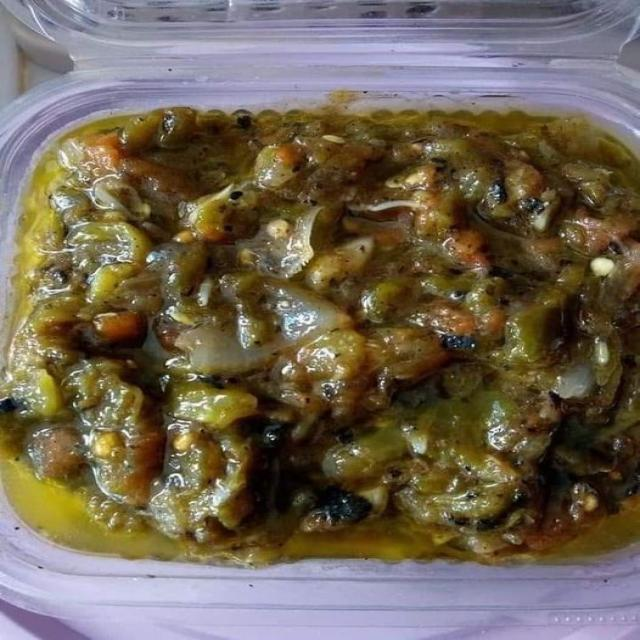Salade mechweya: (0, 93, 635, 584)
